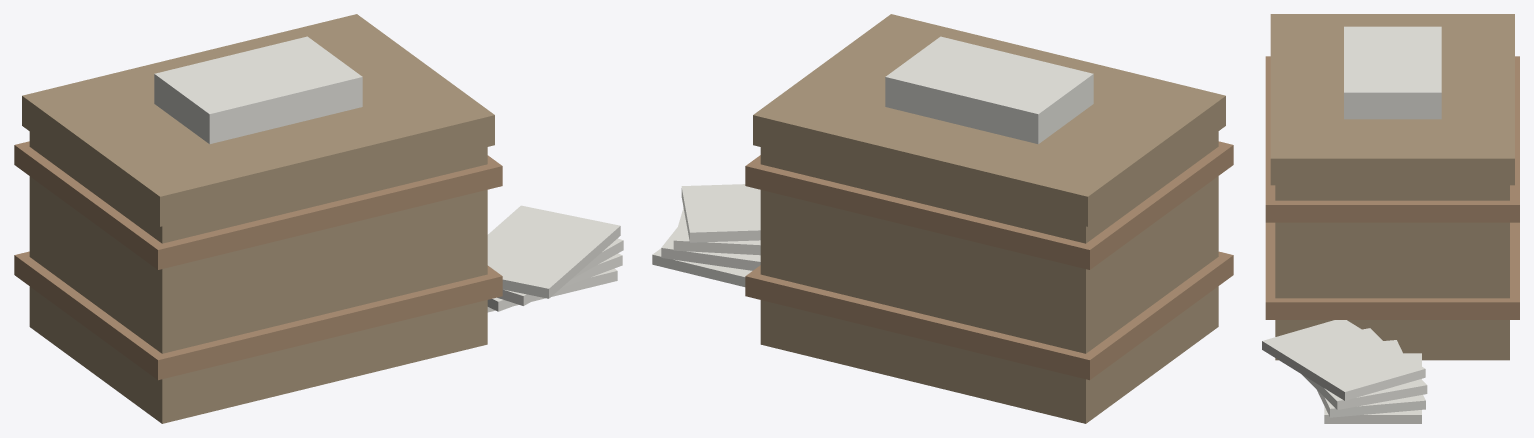
The model's file is trench-line-1917-letters-box-3d319323__24109.glb.
3 views of the same model, side by side, from view 1: azimuth 30°, elevation 25°; view 2: azimuth 150°, elevation 25°; view 3: azimuth 270°, elevation 25° (orthographic). The views are drawn at different scales.
Visible parts, largest first — view 1: letters-box; view 2: letters-box; view 3: letters-box.
Boxes of the visible parts, box(x1,y1,x2,y2) form: letters-box: box(14, 14, 623, 423); letters-box: box(652, 14, 1233, 423); letters-box: box(1262, 14, 1519, 423).
Size of the model in its own units: 0.5301 by 0.26 by 0.2636.
